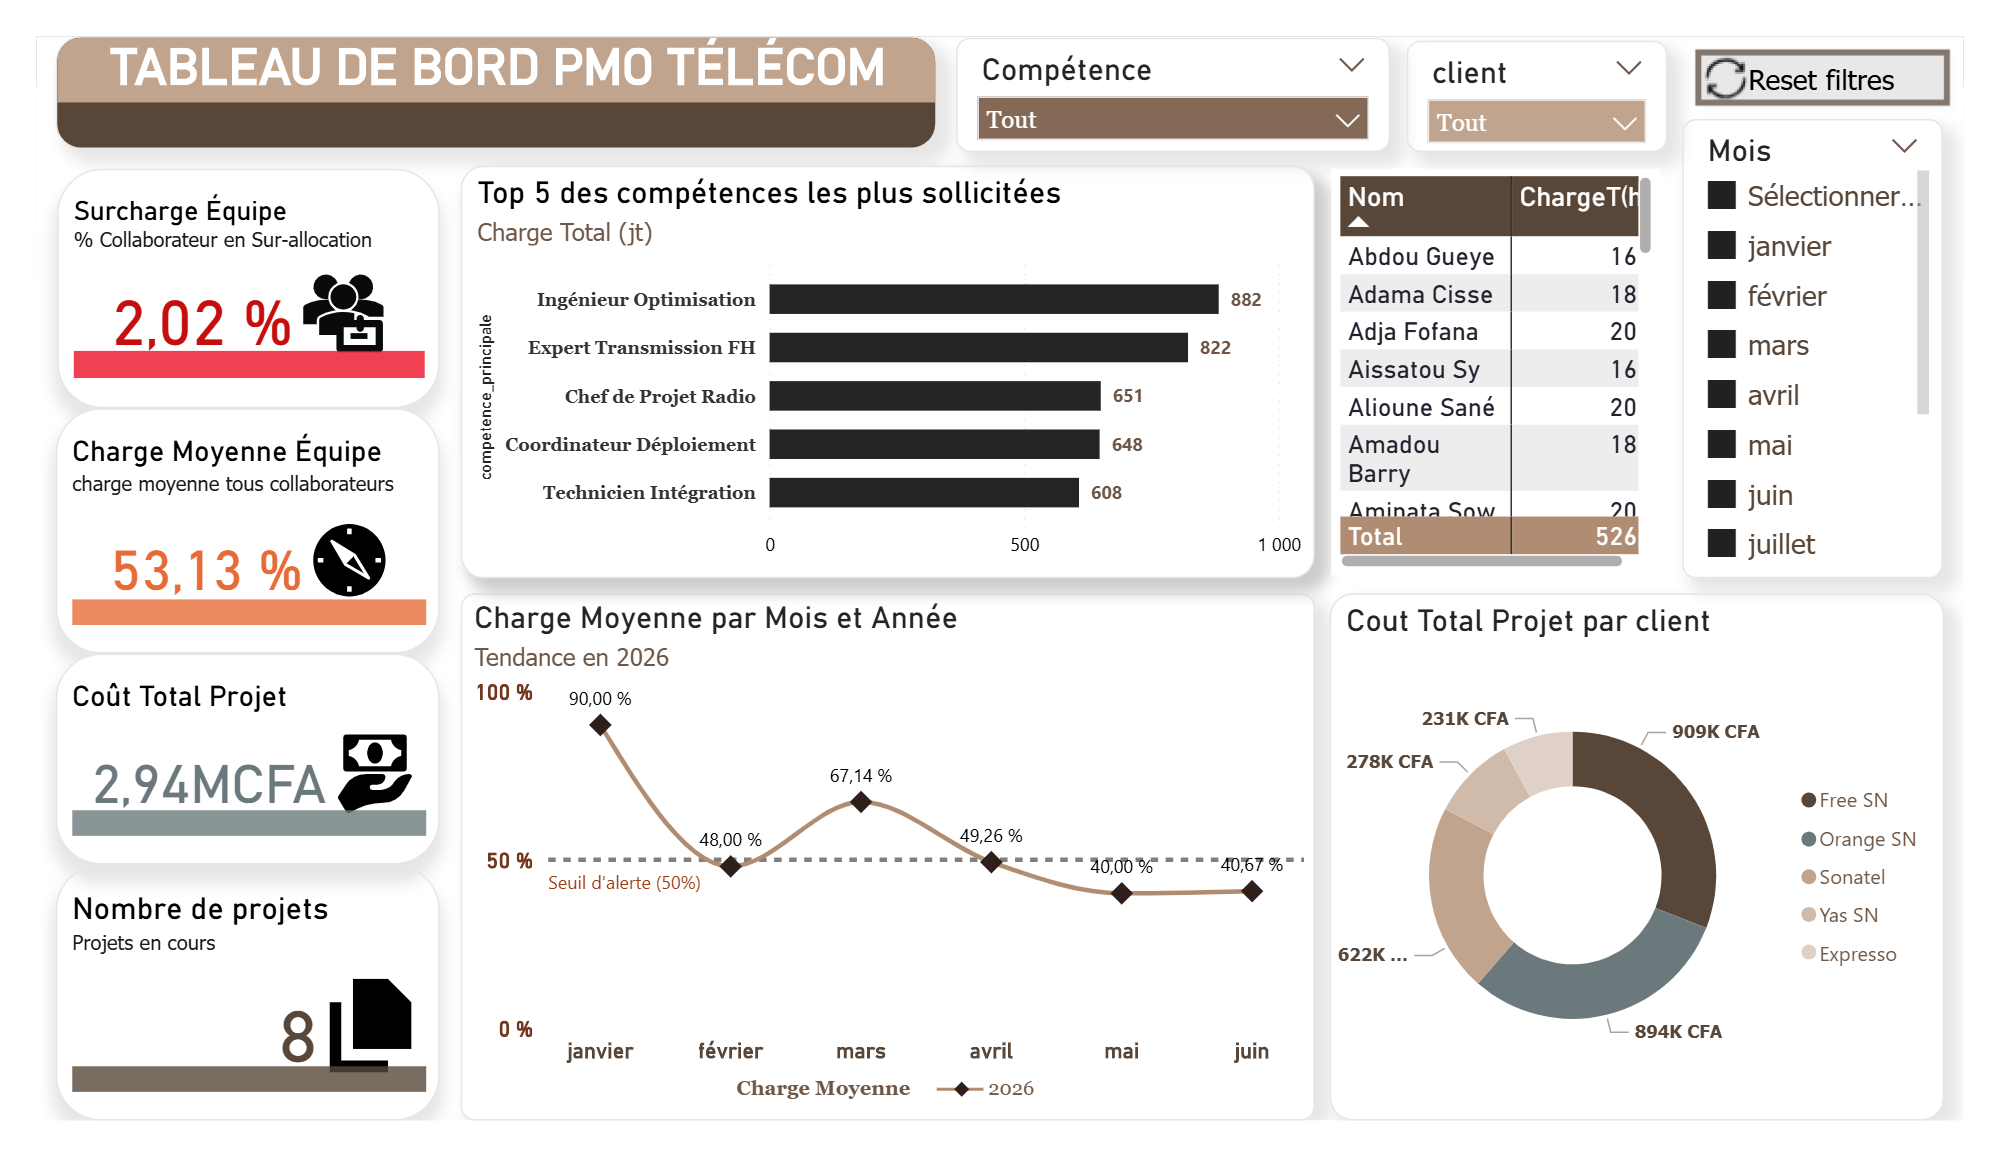

Layout of this report page (visuals, bound fields, positions):
{"tool":"powerbi","page":{"name":"Vue Exécutive","canvas":[1280,720],"ordinal":0},"visuals":[{"type":"textbox","title":"TABLEAU DE BORD PMO TÉLÉCOM ","box":[12.8,0,585.4,75.1],"z":0},{"type":"cardVisual","title":"Surcharge Équipe","fields":{"Data":["charge_mensuelle_collab.% Collaborateurs en Sur-allocation"]},"box":[14.2,87.9,253.7,158.8],"z":1000},{"type":"cardVisual","title":"Charge Moyenne Équipe","fields":{"Data":["charge_mensuelle_collab.Charge Moyenne"]},"box":[12.8,246.6,255.1,163],"z":2000},{"type":"cardVisual","title":"Nombre de projets","fields":{"Data":["charge_mensuelle_collab.NbProjets"]},"box":[12.8,550,255.1,170.1],"z":3000},{"type":"cardVisual","title":"Coût Total Projet","fields":{"Data":["suivi_projets.Coût Total Projet"]},"box":[12.8,409.7,255.1,140.3],"z":4000},{"type":"lineChart","fields":{"Category":["charge_mensuelle_collab.mois.Variation.Hiérarchie de dates.Mois"],"Y":["charge_mensuelle_collab.Charge Moyenne"],"Series":["charge_mensuelle_collab.mois.Variation.Hiérarchie de dates.Année"]},"box":[282.1,370,567,350.1],"z":5000},{"type":"clusteredBarChart","title":"Top 5 des compétences les plus sollicitées","fields":{"Category":["fait_affectations.competence_principale"],"Y":["Sum(fait_affectations.charge_jh)"]},"box":[282.1,86.5,567,273.6],"z":6000},{"type":"donutChart","fields":{"Category":["suivi_projets.client"],"Y":["suivi_projets.Coût Total Projet"]},"box":[859.3,370.2,407.3,349.4],"z":7000},{"type":"slicer","fields":{"Values":["charge_mensuelle_collab.mois.Variation.Hiérarchie de dates.Mois"]},"box":[1092.9,55.3,172.9,304.8],"z":8000},{"type":"slicer","fields":{"Values":["suivi_projets.client"]},"box":[910,2.8,172.9,73.7],"z":9000},{"type":"slicer","fields":{"Values":["charge_mensuelle_collab.competence_principale"]},"box":[610.9,1.4,287.8,75.1],"z":10000},{"type":"actionButton","box":[1092.9,0,187.1,55.3],"z":11000},{"type":"tableEx","fields":{"Values":["charge_mensuelle_collab.nom_complet","charge_mensuelle_collab.Charge Totale"]},"box":[860,88,218.5,269.6],"z":11001}]}

Visuals, with their boxes in screenshot pixels (x1, y1, x2, y2), scaled from the page's 1280x720 canvas onto the 2000x1156 screenshot:
"TABLEAU DE BORD PMO TÉLÉCOM " textbox: 20 0 935 121
"Surcharge Équipe" cardVisual: 22 141 419 396
"Charge Moyenne Équipe" cardVisual: 20 396 419 658
"Nombre de projets" cardVisual: 20 883 419 1155
"Coût Total Projet" cardVisual: 20 658 419 883
lineChart - charge_mensuelle_collab.mois.Variation.Hiérarchie de dates.Mois x charge_mensuelle_collab.Charge Moyenne: 441 594 1327 1155
"Top 5 des compétences les plus sollicitées" clusteredBarChart: 441 139 1327 578
donutChart - suivi_projets.client x suivi_projets.Coût Total Projet: 1343 594 1979 1155
slicer - charge_mensuelle_collab.mois.Variation.Hiérarchie de dates.Mois: 1708 89 1978 578
slicer - suivi_projets.client: 1422 4 1692 123
slicer - charge_mensuelle_collab.competence_principale: 955 2 1404 123
actionButton: 1708 0 1999 89
tableEx - charge_mensuelle_collab.nom_complet x charge_mensuelle_collab.Charge Totale: 1344 141 1685 574
